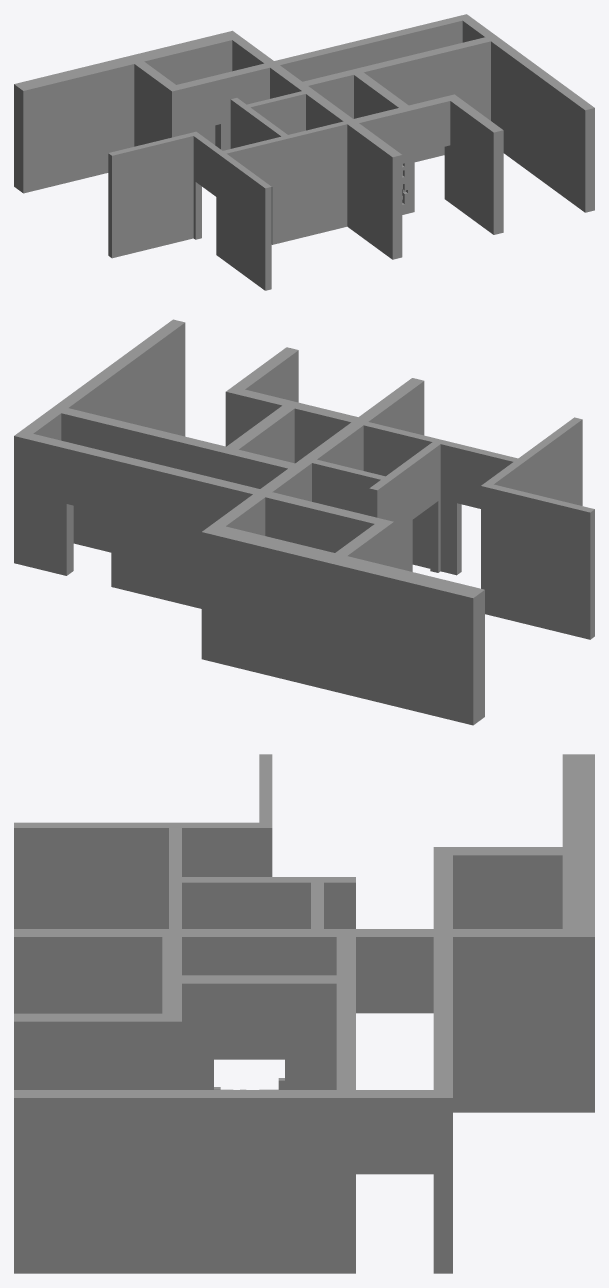
File: Home2.obj
3 renders of one model, top to bottom at view 1: azimuth 30°, elevation 25°; view 2: azimuth 150°, elevation 25°; view 3: azimuth 270°, elevation 25°, orthographic. The views are drawn at different scales.
Bounding box in the file's own units: 12.6 × 3 × 9.
Materials: 1 (1 with a texture image).
